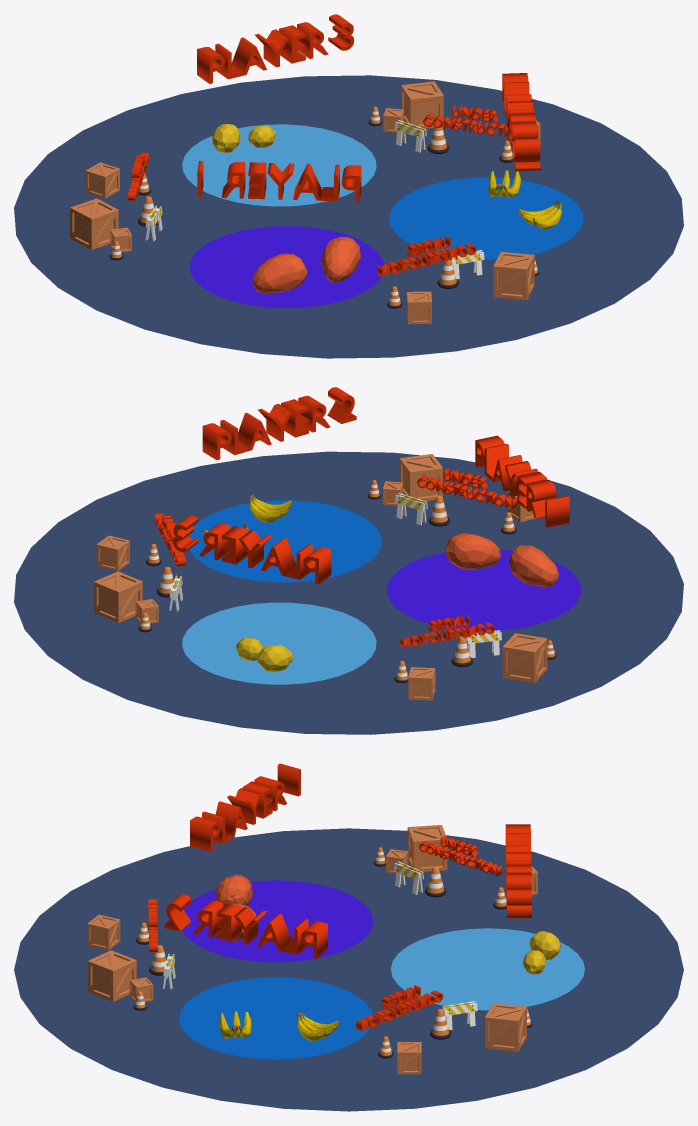
3 views of the same model, one above another, from view 1: azimuth 30°, elevation 25°; view 2: azimuth 150°, elevation 25°; view 3: azimuth 270°, elevation 25° (orthographic).
Parts seen in each view (by area): view 1: Circle.003, Circle.002, Circle.001, Circle, Text.005, Text.004, Text.003, Box.004, Box.007, Low Poly Mango, Text.002, Box.001 (+9 smaller); view 2: Circle.003, Circle, Circle.001, Circle.002, Text.003, Text.005, Text.004, Box.004, Box.001, Text.002, Low Poly Mango.001, Low Poly Mango (+9 smaller); view 3: Circle.003, Circle.002, Circle, Circle.001, Text.003, Text.004, Text.005, Box.007, Box.001, Text.006, Box.004, Text.001 (+8 smaller).
Part boxes in pixels (<box>): Circle.003: <box>14,75,683,358</box>; Circle.002: <box>389,177,583,259</box>; Circle.001: <box>189,226,383,308</box>; Circle: <box>182,124,376,206</box>; Text.005: <box>197,14,354,83</box>; Text.004: <box>197,161,361,201</box>; Text.003: <box>502,73,540,170</box>; Box.004: <box>70,198,118,250</box>; Box.007: <box>493,251,534,300</box>; Low Poly Mango: <box>252,253,307,293</box>; Text.002: <box>378,235,476,277</box>; Box.001: <box>401,81,443,128</box>; Circle.003: <box>14,451,683,734</box>; Circle: <box>182,602,376,684</box>; Circle.001: <box>387,549,581,630</box>; Circle.002: <box>189,500,381,582</box>; Text.003: <box>202,387,356,460</box>; Text.005: <box>173,515,331,584</box>; Text.004: <box>475,435,569,527</box>; Box.004: <box>502,633,547,683</box>; Box.001: <box>94,571,142,623</box>; Text.002: <box>417,468,516,509</box>; Low Poly Mango.001: <box>445,533,500,570</box>; Low Poly Mango: <box>509,545,558,586</box>; Circle.003: <box>14,828,683,1111</box>; Circle.002: <box>179,977,372,1059</box>; Circle: <box>390,928,584,1010</box>; Circle.001: <box>182,880,373,962</box>; Text.003: <box>164,894,327,958</box>; Text.004: <box>190,763,300,851</box>; Text.005: <box>505,824,531,918</box>; Box.007: <box>87,950,136,1001</box>; Box.001: <box>484,1003,526,1051</box>; Text.006: <box>356,985,443,1031</box>; Box.004: <box>407,825,447,871</box>; Text.001: <box>419,836,501,876</box>.
Bounding box in the file's own units: 50.64 × 9.7 × 50.64.
31 materials, 22 textured.
